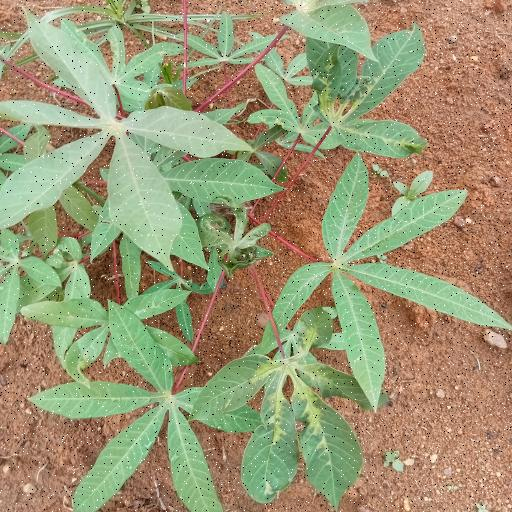Cassava_Mosaic: (48, 304, 260, 512), (204, 314, 374, 495), (303, 7, 438, 166)
